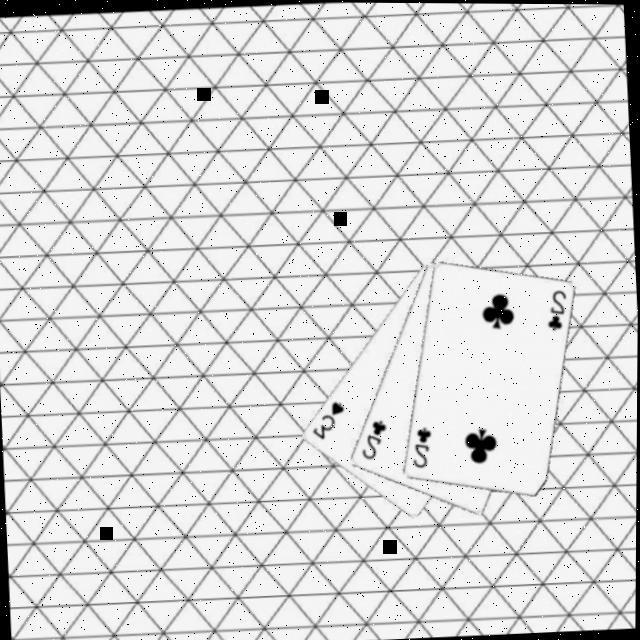2C: (359, 414, 393, 461), (410, 422, 438, 470), (544, 286, 572, 332)
3S: (310, 396, 350, 442)
